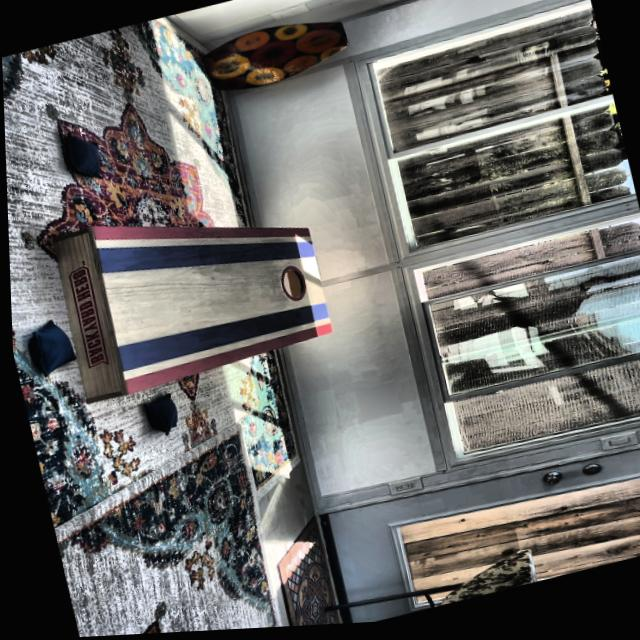blue-bean-bag: (23, 315, 78, 378), (61, 127, 103, 185), (138, 393, 178, 440)
board: (95, 212, 332, 388)
hole: (276, 264, 309, 306)
